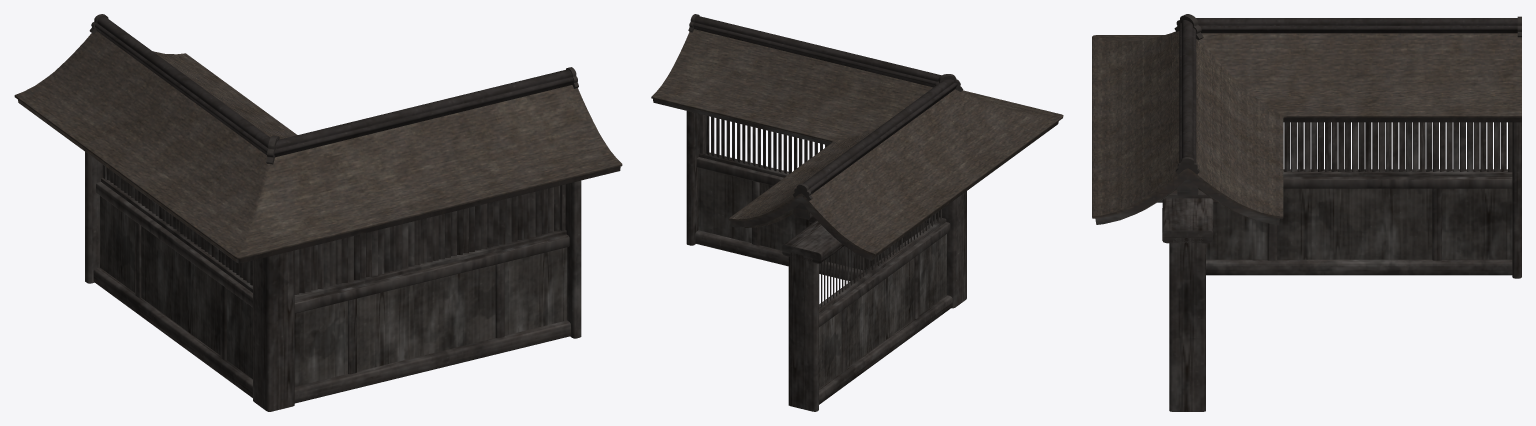
The model's file is Fence_Corner.fbx.
3 views of the same model, side by side, from view 1: azimuth 30°, elevation 25°; view 2: azimuth 150°, elevation 25°; view 3: azimuth 270°, elevation 25° (orthographic). The views are drawn at different scales.
Parts seen in each view (by area): view 1: Fence_Corner; view 2: Fence_Corner; view 3: Fence_Corner.
Boxes of the visible parts, x1,y1,x2,y2 form: Fence_Corner: [14, 14, 622, 411]; Fence_Corner: [651, 14, 1063, 411]; Fence_Corner: [1092, 14, 1521, 411].
Size of the model in its own units: 3.86 by 2.53 by 3.86.
